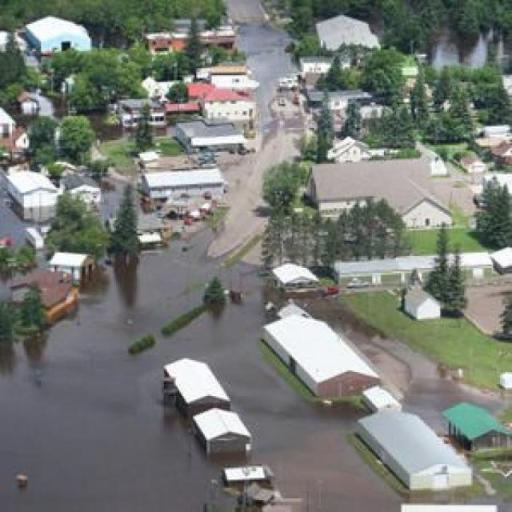flood: (0, 231, 402, 512), (239, 25, 298, 128), (0, 176, 39, 248), (102, 180, 127, 223)
house: (258, 301, 378, 408), (355, 408, 475, 500), (159, 354, 249, 448), (18, 14, 96, 70), (441, 398, 506, 456), (188, 405, 252, 462), (2, 166, 60, 224), (143, 169, 223, 199), (396, 183, 450, 227), (174, 122, 244, 151), (48, 247, 96, 288), (220, 465, 279, 498), (200, 90, 255, 122), (405, 288, 441, 322), (328, 136, 367, 164), (68, 177, 104, 201), (491, 244, 512, 276), (147, 33, 172, 54), (150, 101, 167, 129)
